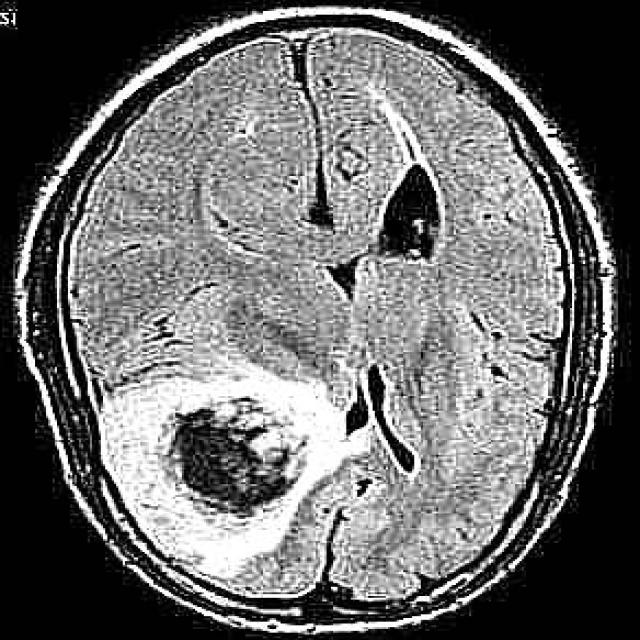Tumor-Cell: (108, 341, 315, 517)
